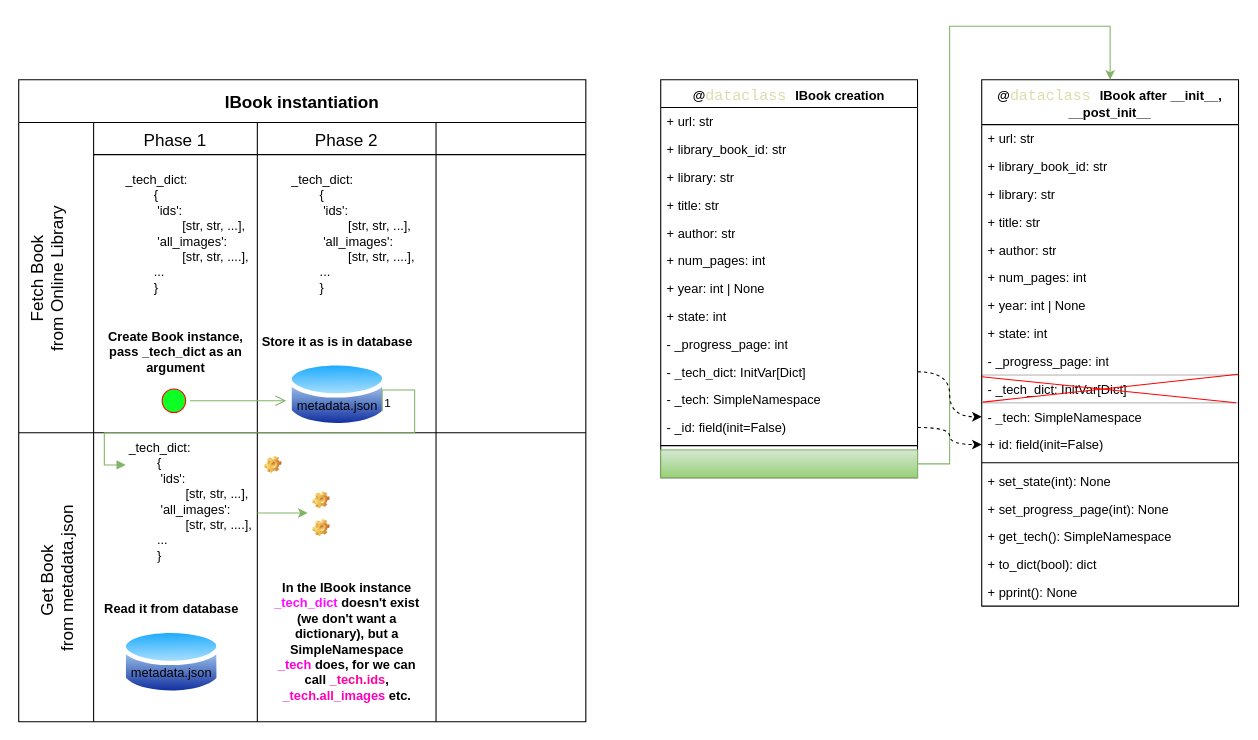
Image size: 1258x740. Some labels were removed from this diagram. The centre of each missing label's shape, as x and y in pixels:
+ __post_init__(_tech_dict: Dict): None: the point at 789,463
_tech.all_images: the point at 372,527
_tech.ids: the point at 369,500
_tech: SimpleNamespace: the point at 337,464
